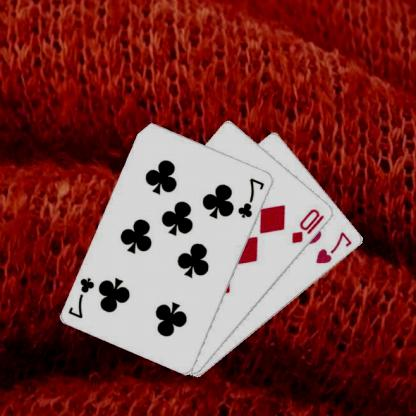10D: (291, 206, 327, 245)
7C: (67, 274, 98, 320), (237, 175, 268, 220)
7H: (315, 229, 355, 265)
